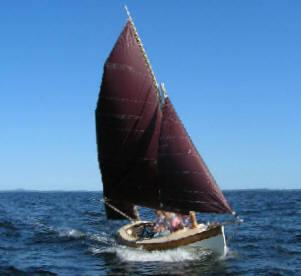Ship: (94, 11, 241, 258)
